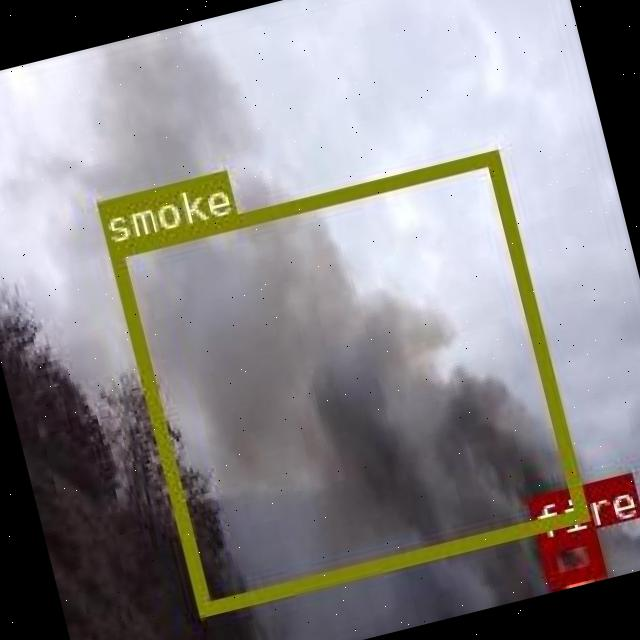fire: (534, 526, 602, 588)
smoke: (106, 150, 585, 615)
